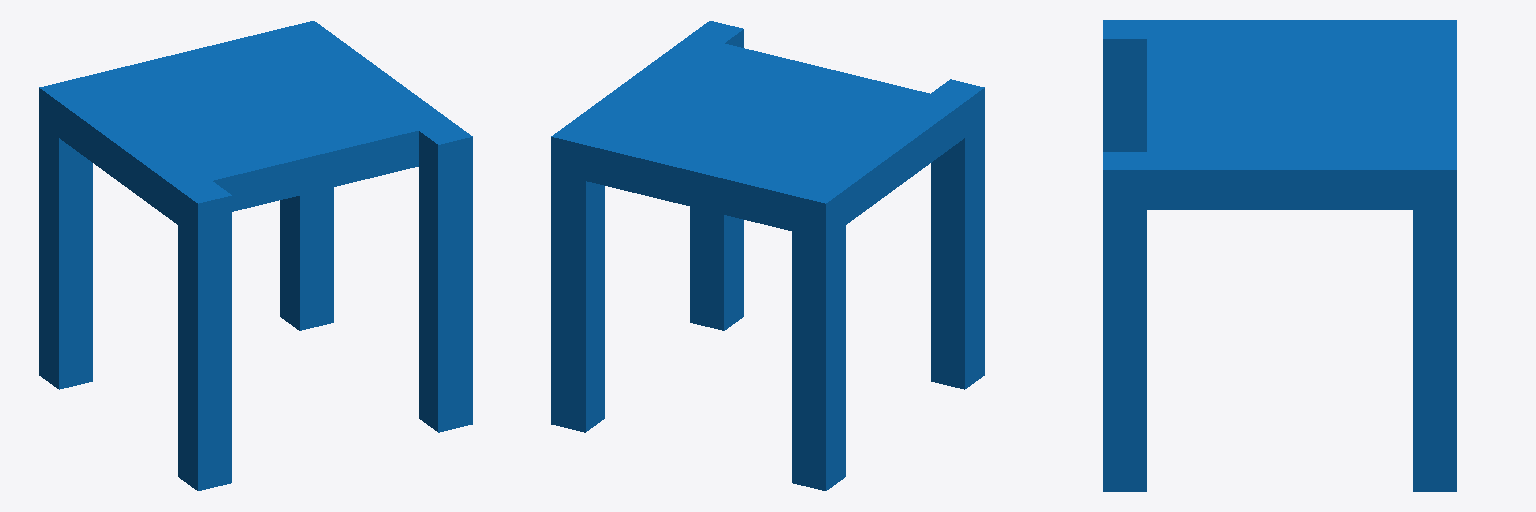
robot.urdf — cube:
<?xml version="0.0" ?>
<robot name="cube">
  <link name="baseLink">
    <contact>
      <lateral_friction value="1.0"/>
      <rolling_friction value="0.0"/>
      <contact_cfm value="0.0"/>
      <contact_erp value="1.0"/>
    </contact>
    <inertial>
      <mass value="5.020"/>
      <origin rpy="0 0 0" xyz="0 0 0"/>
      <inertia ixx="3e-06" ixy="0" ixz="0" iyy="3e-06" iyz="0" izz="3e-06"/>
    </inertial>
    <visual>
      <origin rpy="0 0 0" xyz="0 0 0"/>
      <geometry>
        <mesh filename="silla2.stl"/>
      </geometry>
      <material name="white">
        <color rgba="0.1 0.5 0.8 1"/>
      </material>
    </visual>
    <collision>
      <origin rpy="0 0 0" xyz="0 0 0"/>
      <geometry>
        <mesh filename="silla2.stl"/>
      </geometry>
    </collision>
  </link>
</robot>

--- Render facts (derived) ---
3 views of the same robot in one strip: view 1: azimuth 30°, elevation 25°; view 2: azimuth 150°, elevation 25°; view 3: azimuth 270°, elevation 25° (orthographic).
Model cube with 1 links and 0 joints (none), rooted at baseLink, posed every joint at zero.
Visible links, largest first — view 1: baseLink; view 2: baseLink; view 3: baseLink.
Boxes of the visible links, x1,y1,x2,y2 form: baseLink: (39,21,472,490); baseLink: (551,21,984,490); baseLink: (1103,20,1456,491).
Size in the robot's own frame: 400 by 400 by 400 metres.
Meshes: 1 distinct files referenced, 1 mesh visuals loaded (1 binary STL).